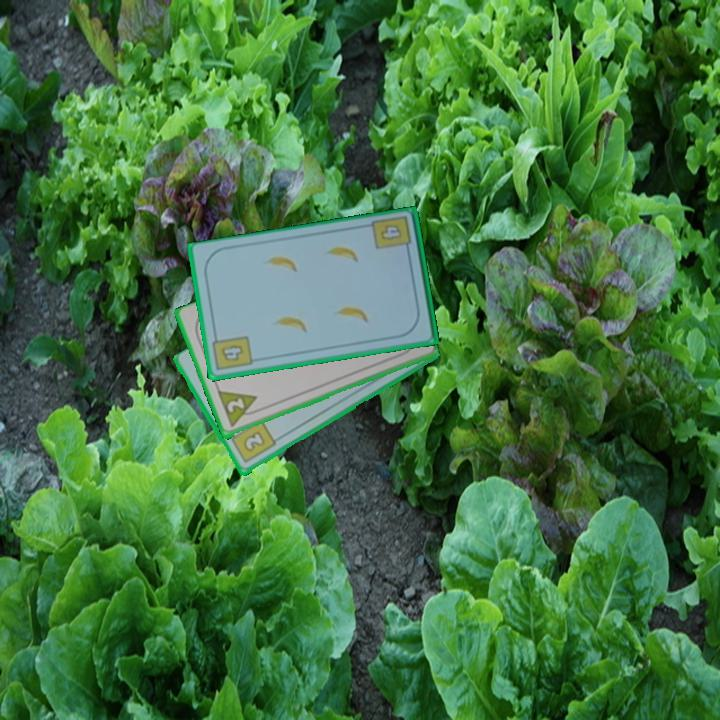2b: (226, 417, 279, 466)
2p: (214, 388, 264, 430)
4b: (369, 213, 414, 257), (209, 331, 255, 373)
